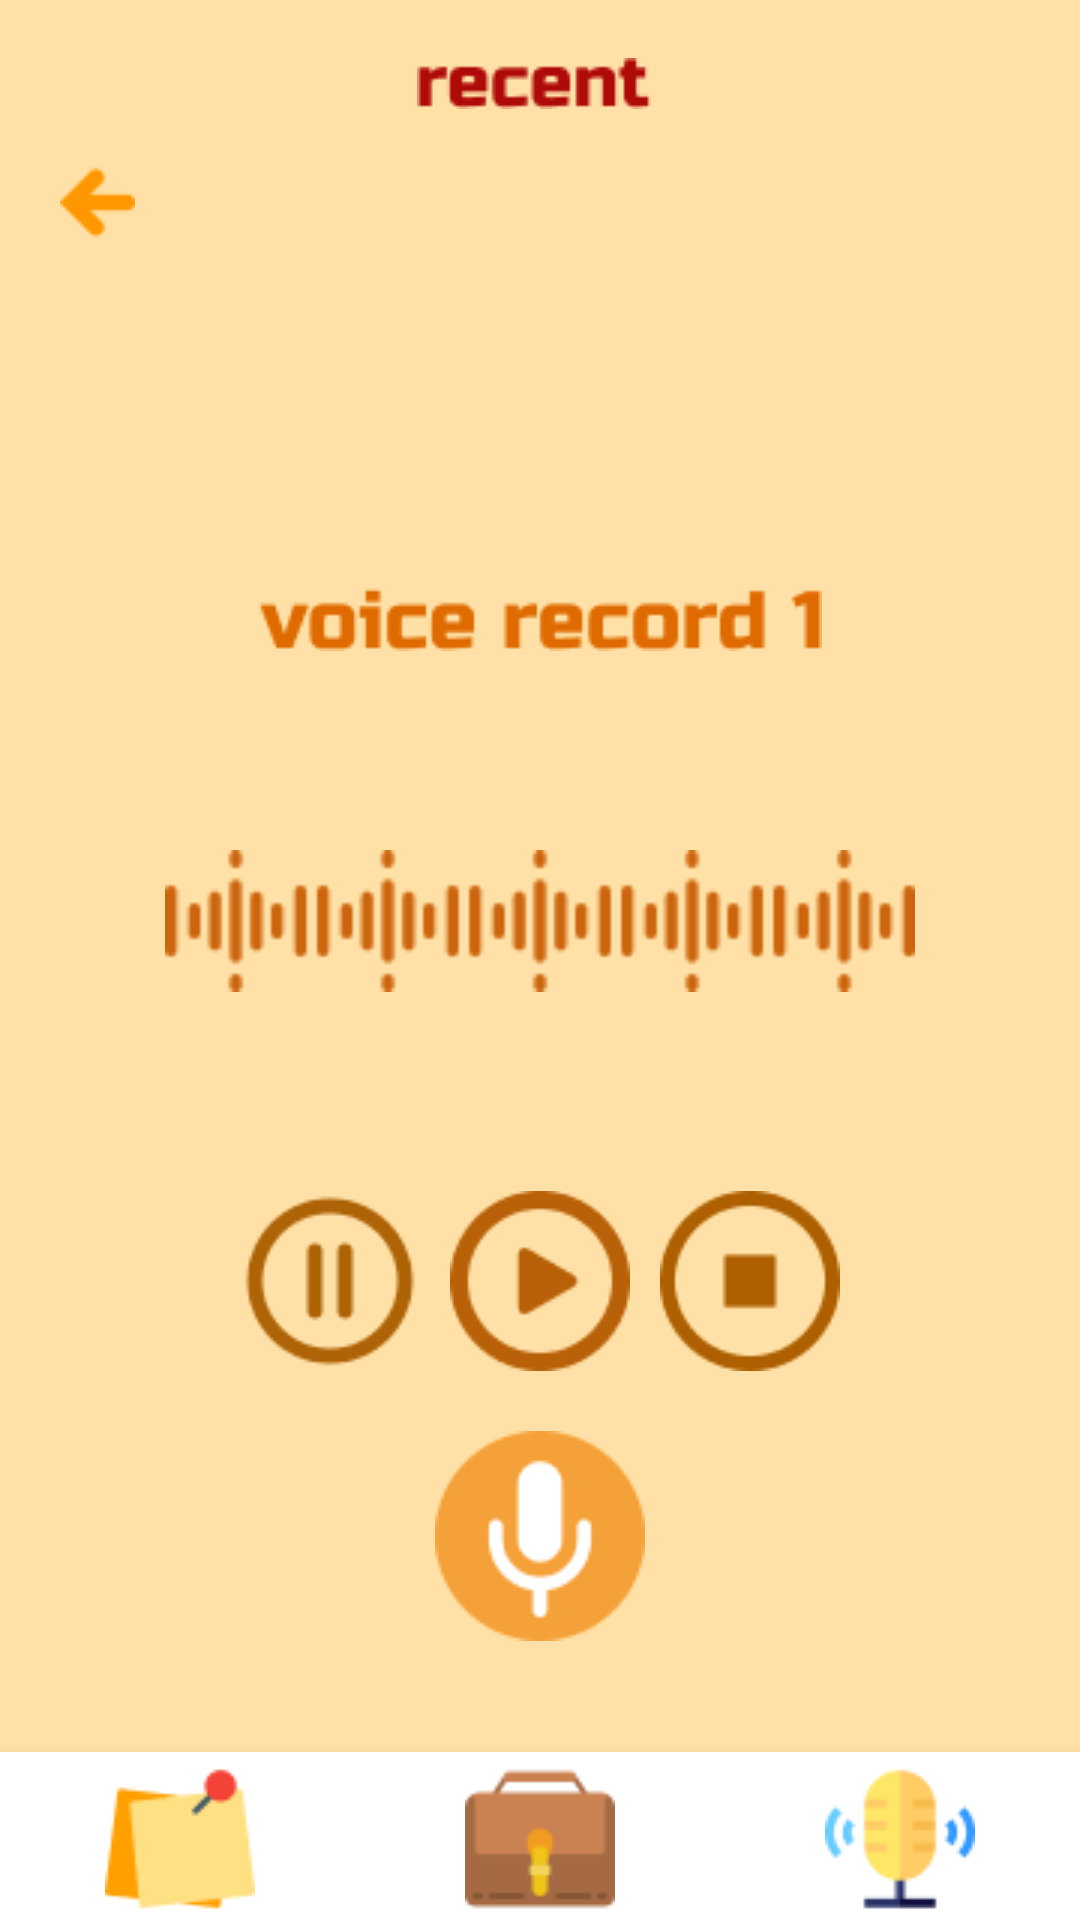

Icons on this 1080 × 1920 Android screen, each with the point to tap as (x,y):
back: (97,202)
micro: (540,1536)
pause: (330,1281)
play: (540,1281)
stop: (750,1281)
